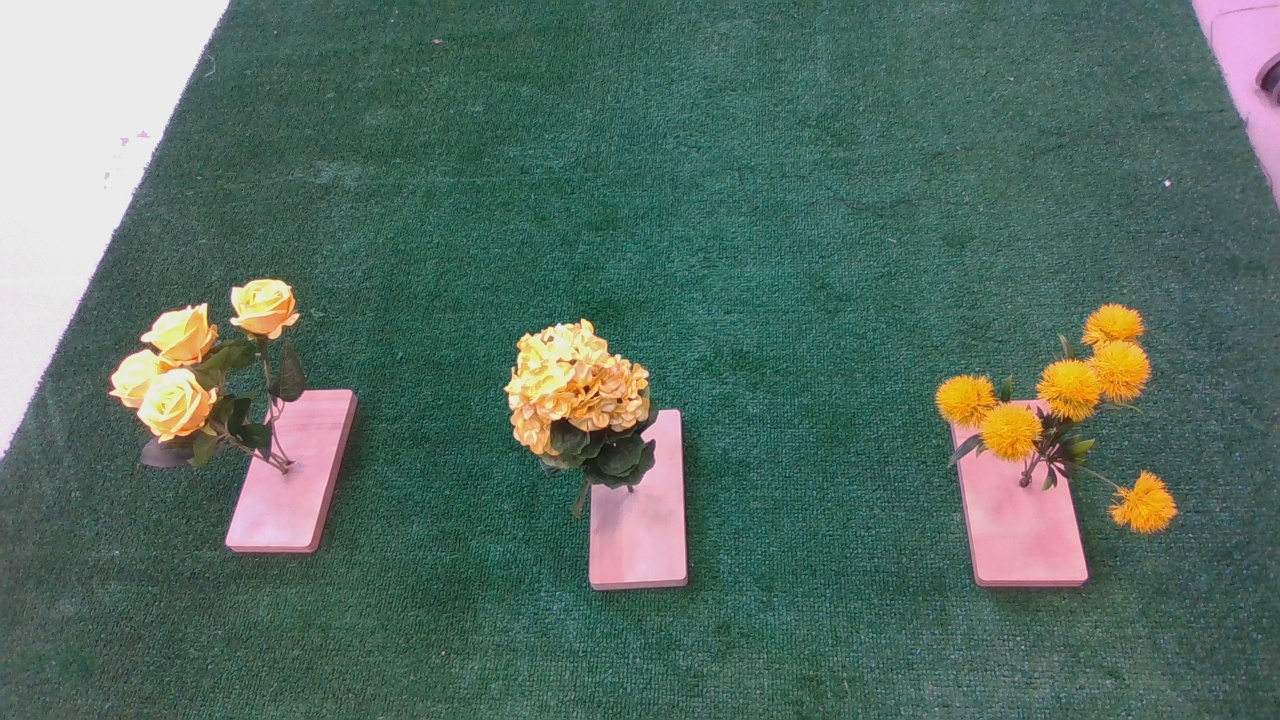dandelion: (934, 303, 1183, 541)
geranium: (501, 316, 671, 500)
rose: (109, 273, 320, 478)
